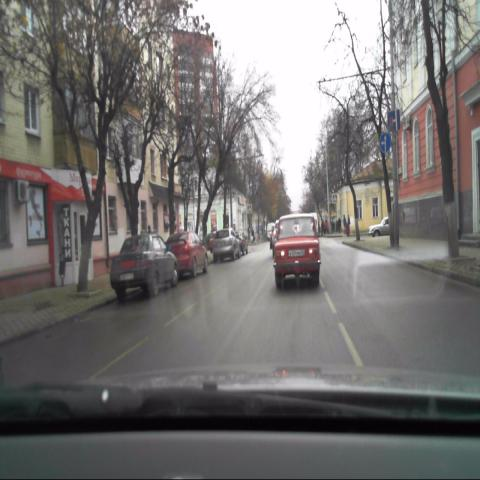4_1_5: (379, 133, 391, 153)
6_8_3: (388, 108, 400, 130)
